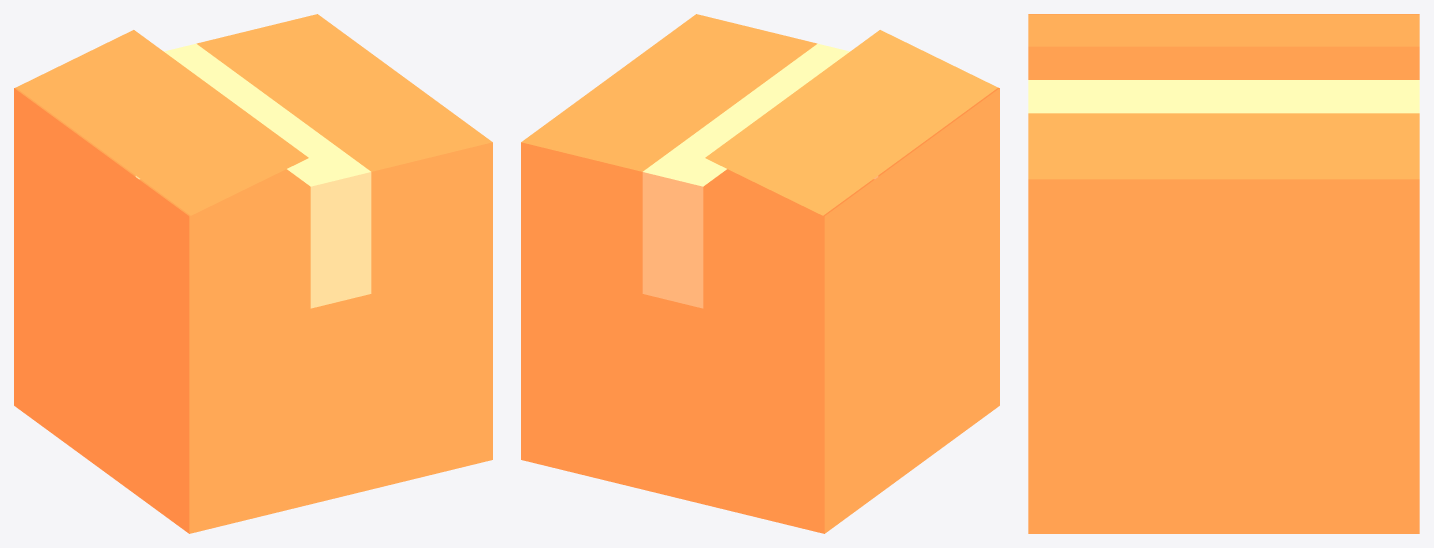
File: BoxSquare.fbx
The picture shows the model from 3 angles, left to right: view 1: azimuth 30°, elevation 25°; view 2: azimuth 150°, elevation 25°; view 3: azimuth 270°, elevation 25°; orthographic projection. The views are drawn at different scales.
Visible parts, largest first — view 1: Cube_12; view 2: Cube_12; view 3: Cube_12.
Boxes of the visible parts, <box> form: Cube_12: <box>14,14,492,533</box>; Cube_12: <box>521,14,999,533</box>; Cube_12: <box>1028,14,1419,533</box>.
Size of the model in its own units: 149 by 163 by 149.
